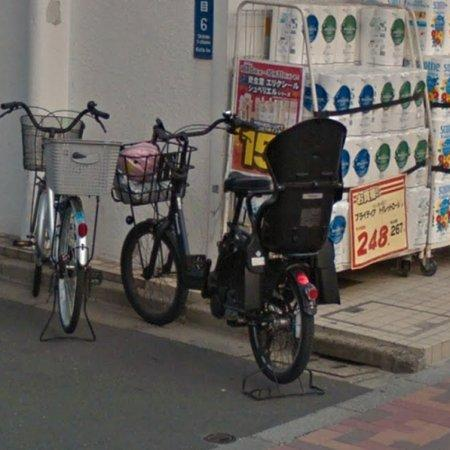bicycles: (121, 113, 345, 383), (0, 101, 121, 334)
